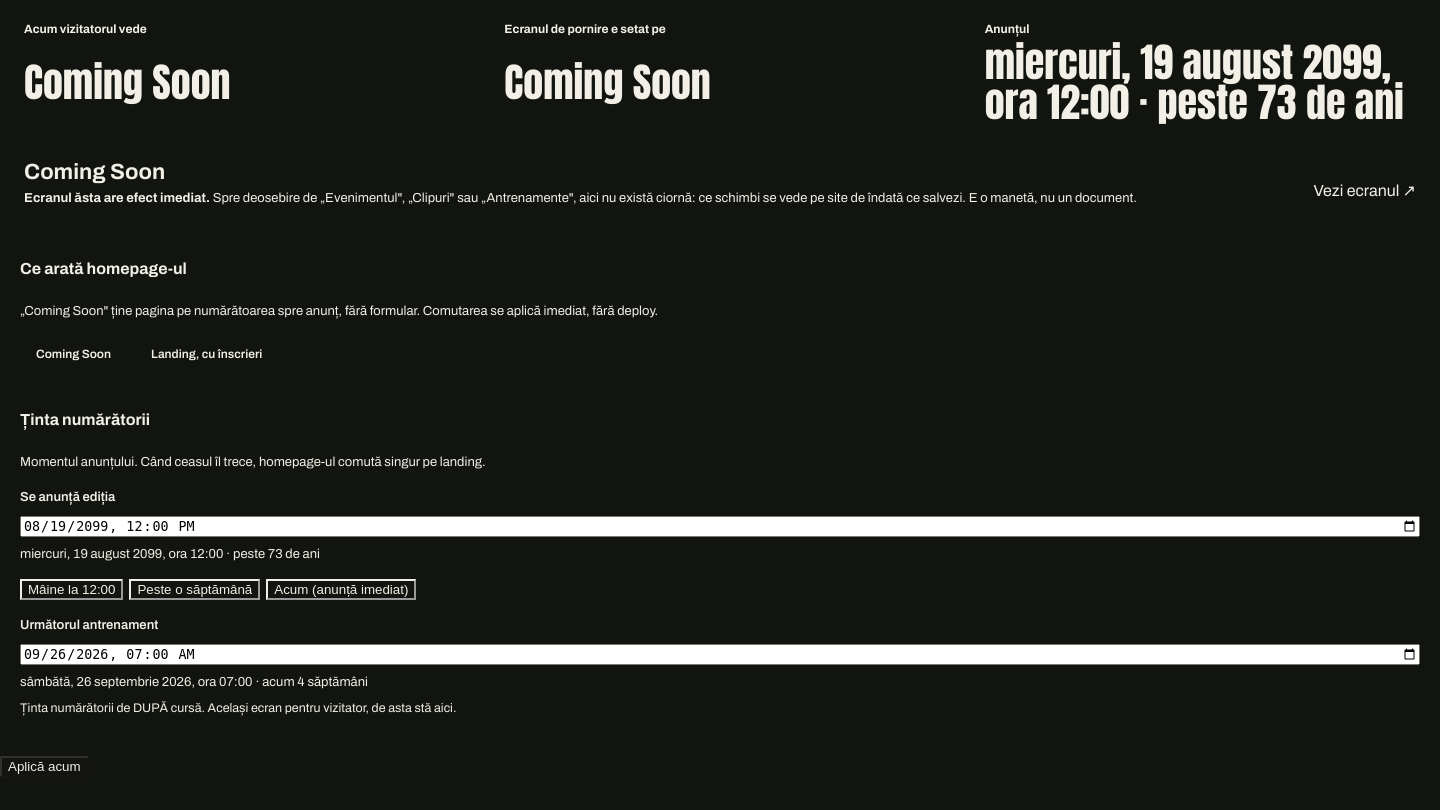
Test: nimic nu pleacă fără confirmare › comutarea deschide confirmarea, nu trimite direct
The width and height of the screenshot is (1440, 810).
Click the button "Landing, cu înscrieri". click: (207, 354)
box: top-left (135, 338), bottom-right (278, 370)
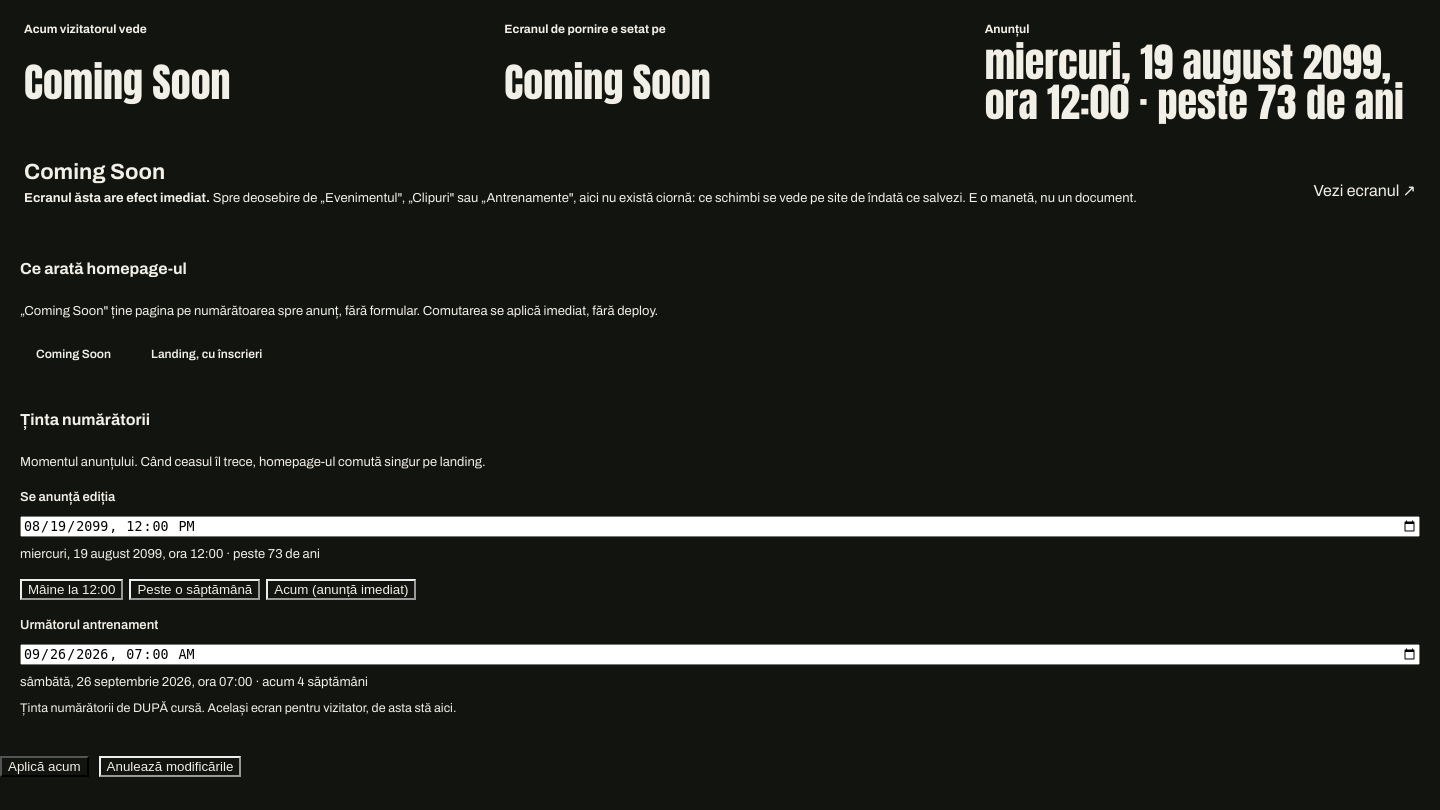
Click the button "Aplică acum". click: (44, 766)
box: top-left (0, 756), bottom-right (89, 776)
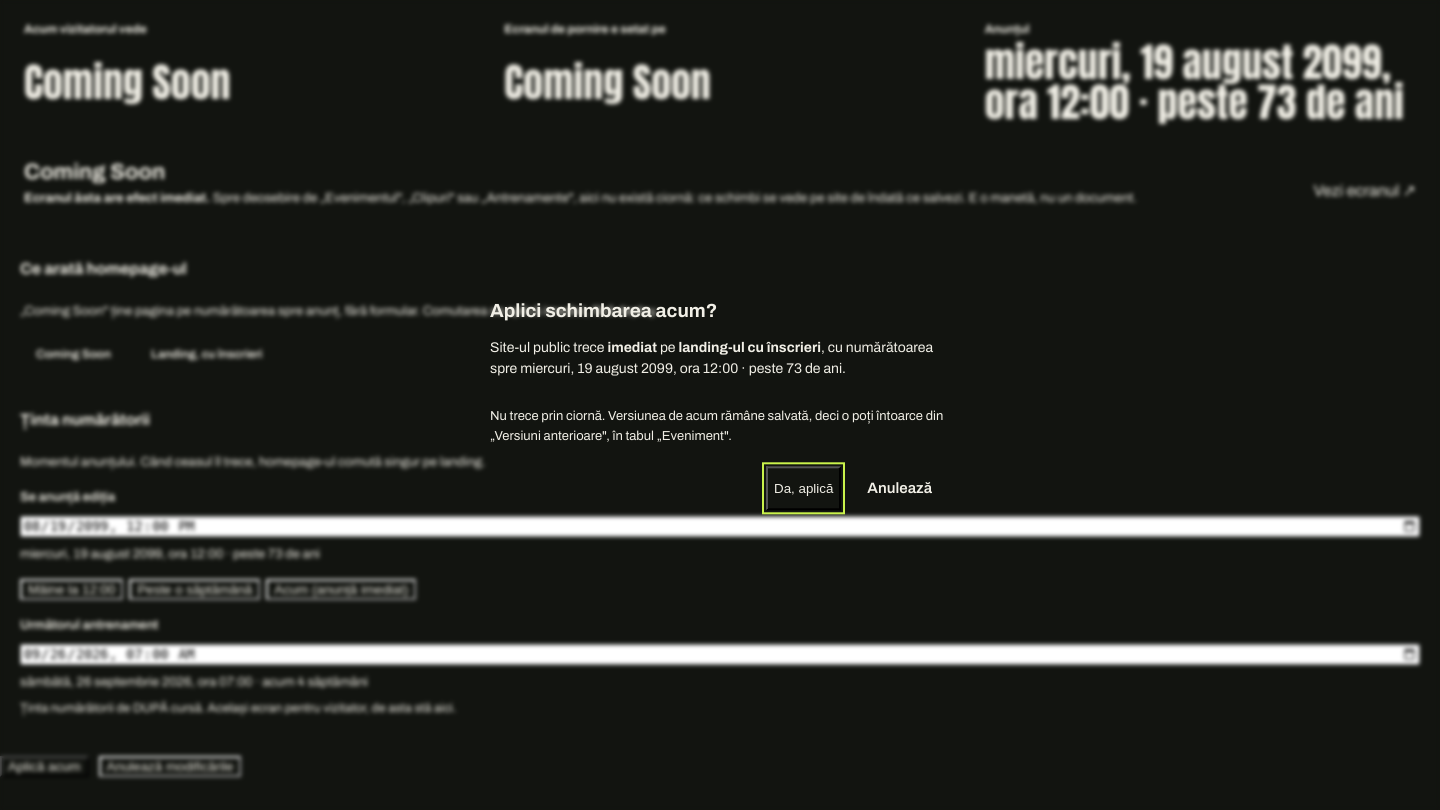
Expected: the dialog is shown, top-left (468, 277), bottom-right (972, 533)
